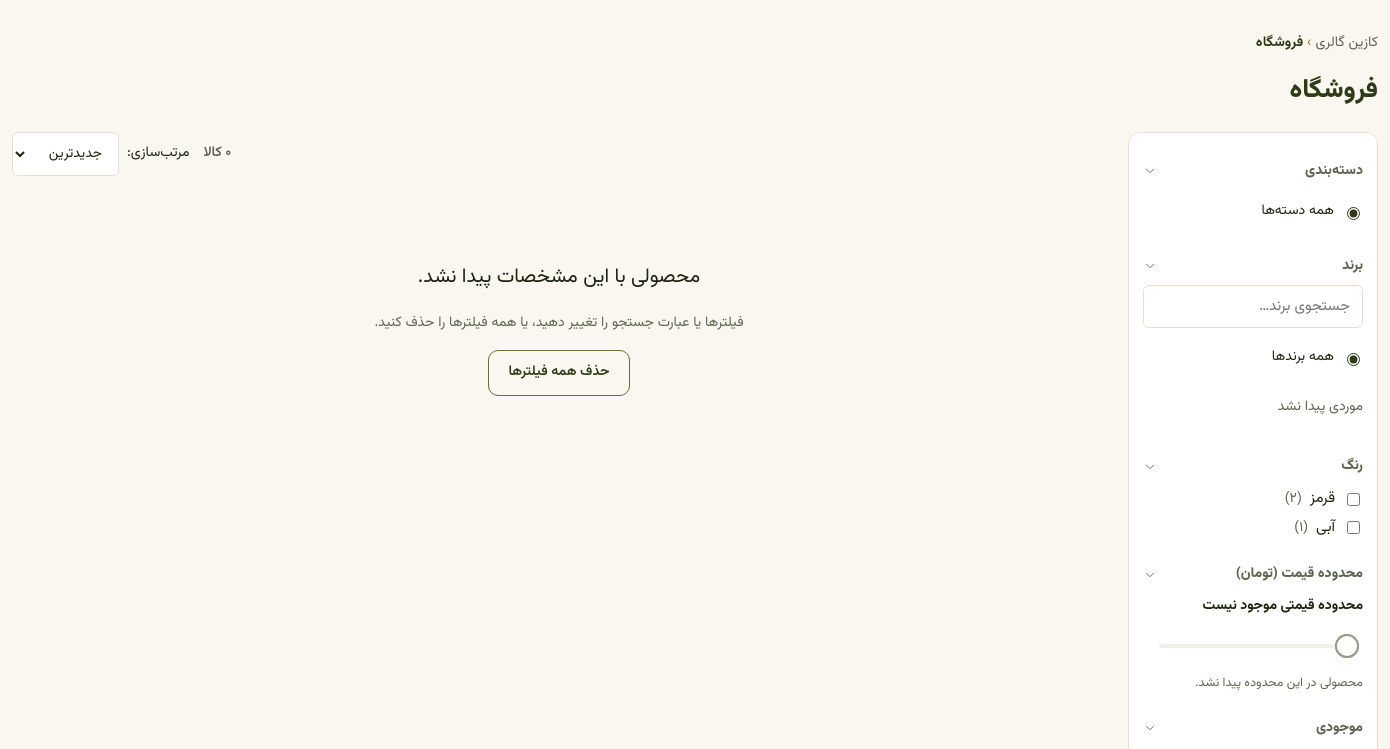
Test: shop page attribute facets › ticking a value updates the URL and the product query
The image size is (1390, 749).
Step 1. Click the checkbox labelled "قرمز (۲)" → click(1354, 499), box [1347,493,1360,506]
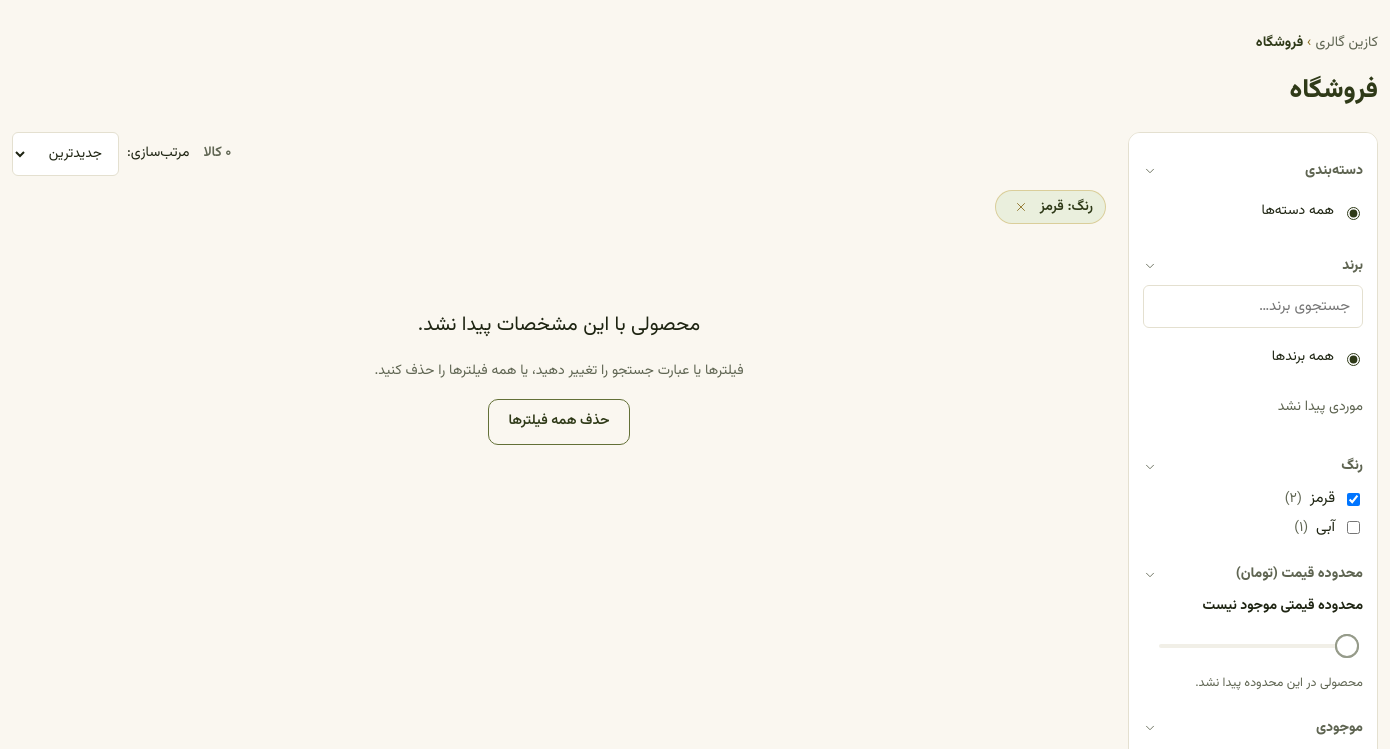
Expected: the text "رنگ: قرمز" is shown, [995,190,1106,224]
